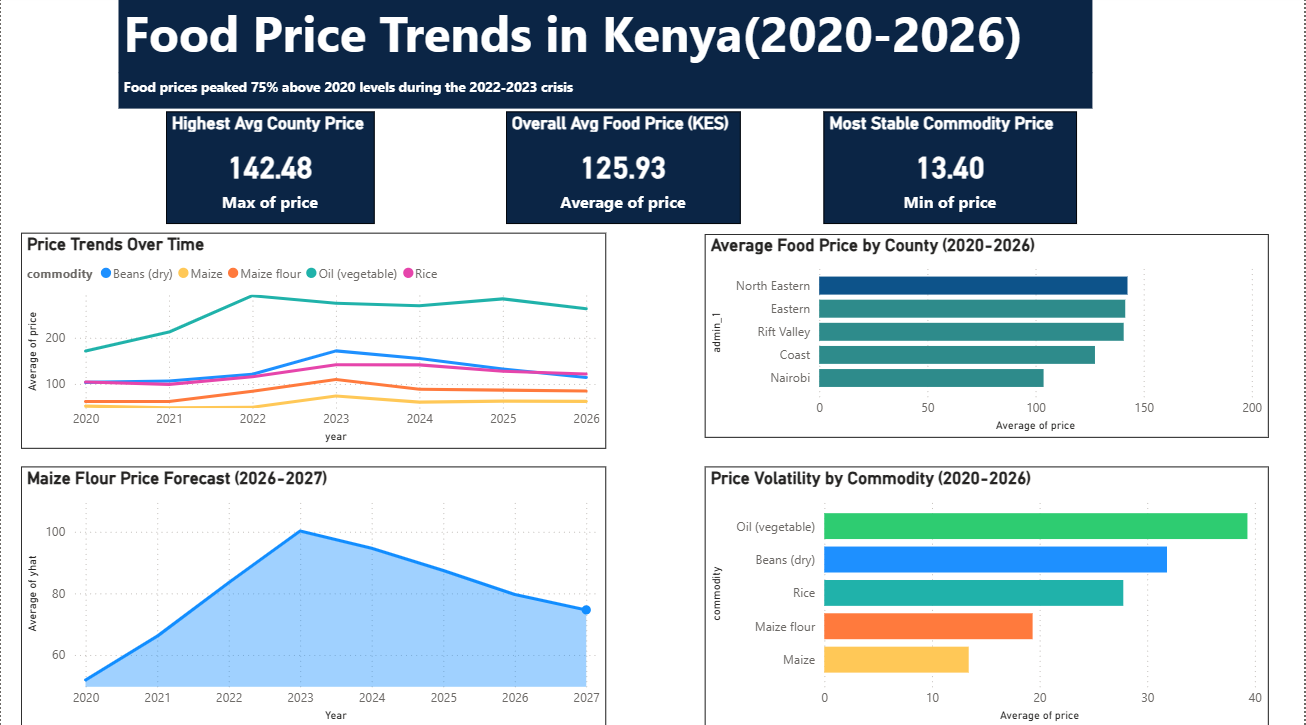

This screenshot's page, from the dashboard's own definition file:
{"tool":"powerbi","page":{"name":"Page 1","canvas":[1280,720],"ordinal":0},"visuals":[{"type":"textbox","box":[162.2,0,951.5,85.9],"z":0},{"type":"lineChart","title":"Price Trends Over Time","fields":{"Category":["yearly_avg.year"],"Y":["Avg(yearly_avg.price)"],"Series":["yearly_avg.commodity"]},"box":[31.5,196.1,520.5,256.6],"z":1000},{"type":"clusteredBarChart","title":"Average Food Price by County (2020-2026)","fields":{"Category":["avg_price_county.admin_1"],"Y":["Avg(avg_price_county.price)"]},"box":[567.7,213,531.4,222.7],"z":2000},{"type":"clusteredBarChart","title":"Price Volatility by Commodity (2020-2026)","fields":{"Category":["volatility.commodity"],"Y":["Avg(volatility.price)"]},"box":[587.1,464.8,531.4,236],"z":3000},{"type":"lineChart","title":"Maize Flour Price Forecast (2026-2027)","fields":{"Category":["maize_forecast.ds.Variation.Date Hierarchy.Month"],"Y":["Avg(maize_forecast.yhat_lower)","Avg(maize_forecast.yhat)","Avg(maize_forecast.yhat_upper)"]},"box":[31.5,474.5,520.5,236],"z":4000},{"type":"card","title":"Highest Avg County Price","fields":{"Values":["Max(avg_price_county.price)"]},"box":[142.8,85.9,250.6,99.3],"z":5000},{"type":"card","title":"Most Stable Commodity Price","fields":{"Values":["Min(volatility.price)"]},"box":[834,85.9,309.9,96.8],"z":6000},{"type":"card","title":"Overall Avg Food Price (KES)","fields":{"Values":["Avg(yearly_avg.price)"]},"box":[451.5,83.5,299,96.8],"z":7000},{"type":"listSlicer","fields":{"Values":["yearly_avg.commodity"]},"box":[1113.7,213,150.1,221.5],"z":8000}]}

Visuals, with their boxes in screenshot pixels (x1, y1, x2, y2), scaled from the page's 1280x720 canvas onto the 1306x725 screenshot:
textbox: locate(165, 0, 1136, 86)
"Price Trends Over Time" lineChart: locate(32, 197, 563, 456)
"Average Food Price by County (2020-2026)" clusteredBarChart: locate(579, 214, 1121, 439)
"Price Volatility by Commodity (2020-2026)" clusteredBarChart: locate(599, 468, 1141, 706)
"Maize Flour Price Forecast (2026-2027)" lineChart: locate(32, 478, 563, 715)
"Highest Avg County Price" card: locate(146, 86, 401, 186)
"Most Stable Commodity Price" card: locate(851, 86, 1167, 184)
"Overall Avg Food Price (KES)" card: locate(461, 84, 766, 182)
listSlicer - yearly_avg.commodity: locate(1136, 214, 1289, 438)
